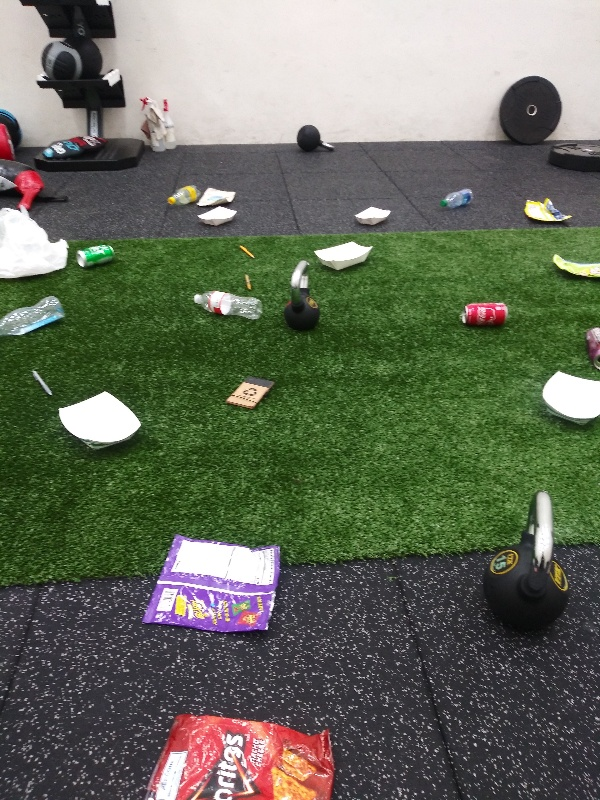bag: (138, 710, 344, 800), (142, 531, 288, 635), (551, 248, 600, 282), (522, 195, 575, 226), (196, 184, 238, 206)
bottle: (1, 292, 69, 341), (187, 290, 267, 325), (165, 182, 202, 206), (436, 187, 478, 208)
can: (458, 299, 511, 329), (74, 240, 119, 270), (583, 323, 600, 367)
plate: (54, 391, 143, 457), (537, 368, 600, 429), (311, 239, 376, 273), (350, 203, 396, 230), (196, 204, 241, 228)
